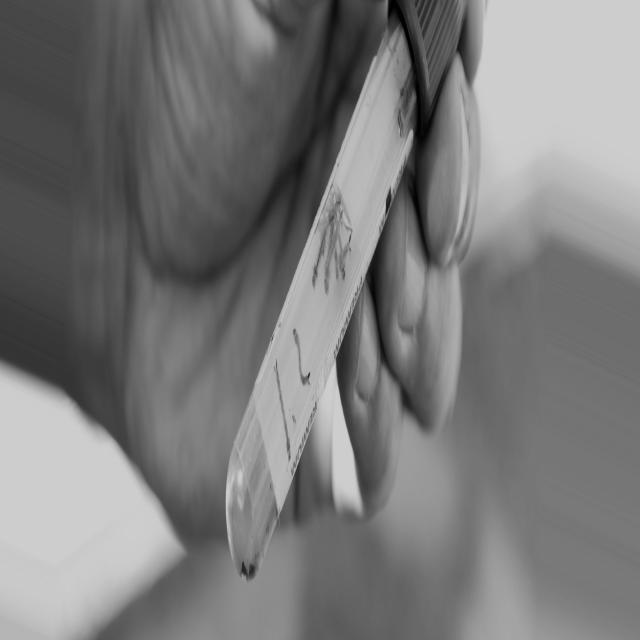larvas: (309, 193, 344, 287), (274, 360, 291, 458), (292, 332, 310, 384), (322, 243, 334, 293), (338, 237, 351, 270), (335, 248, 340, 278)
